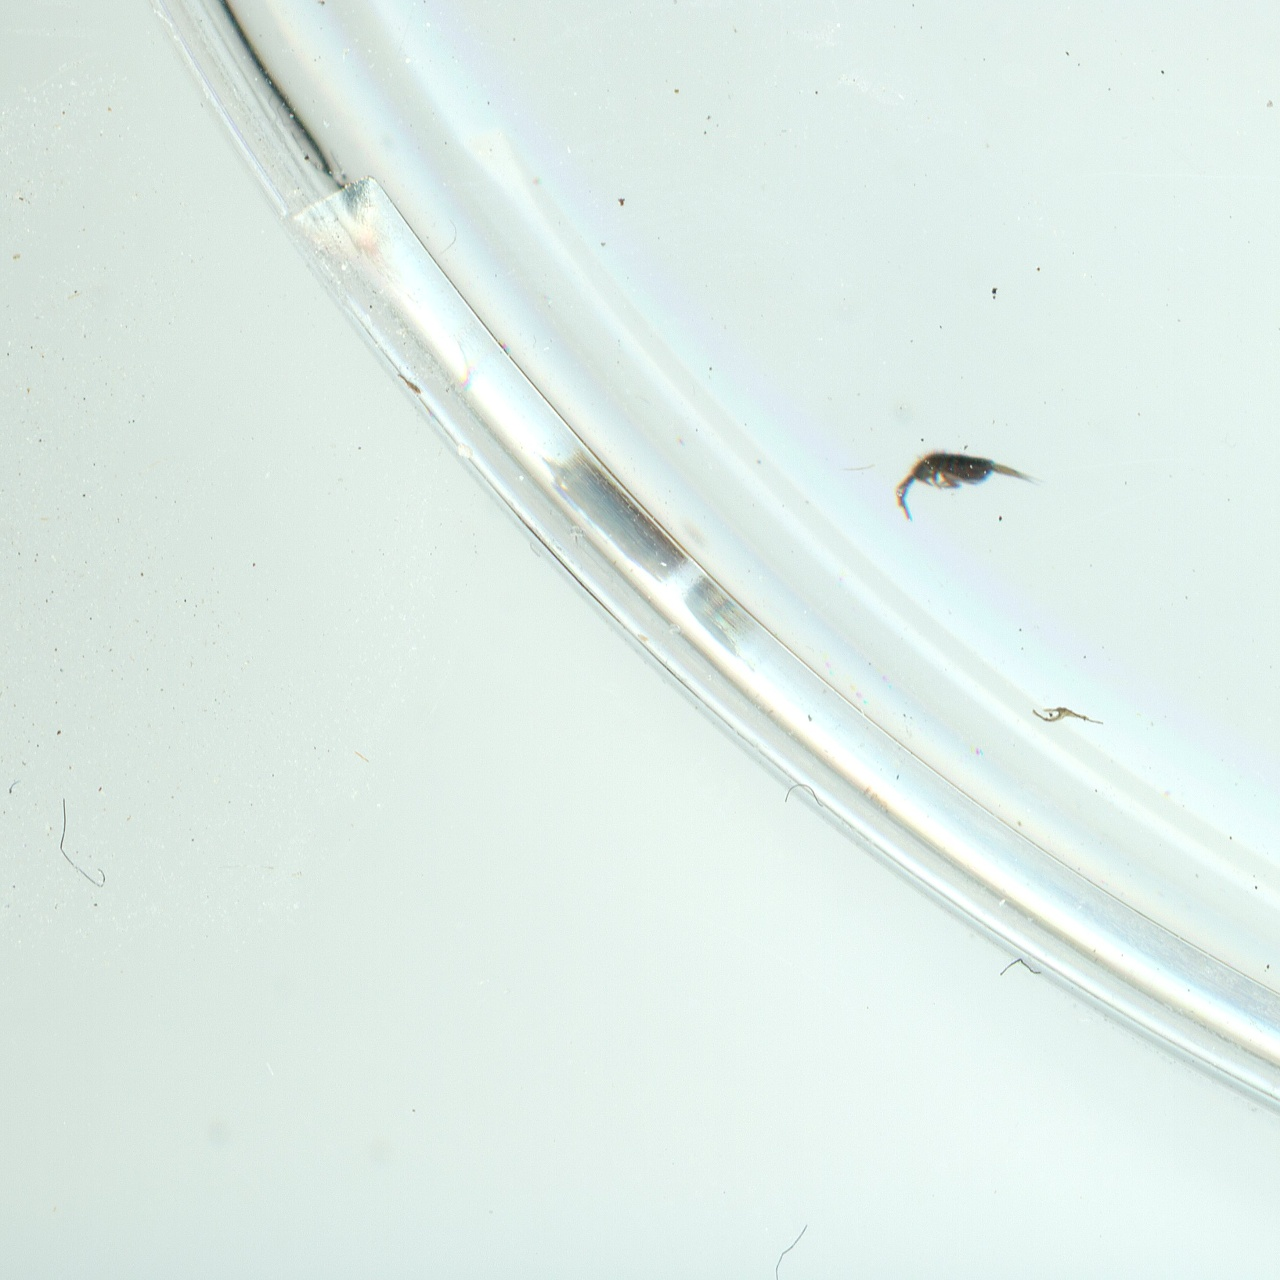arthropod: (893, 449, 1039, 520)
